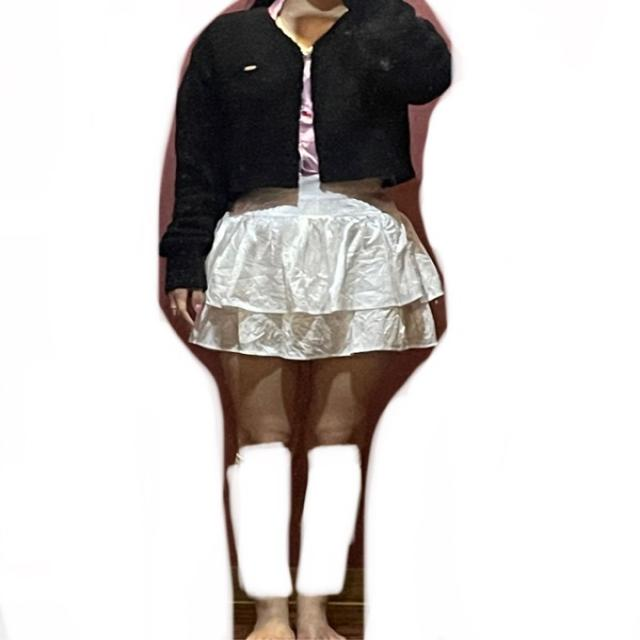cardigan: (156, 0, 450, 296)
skirt: (184, 175, 442, 363)
